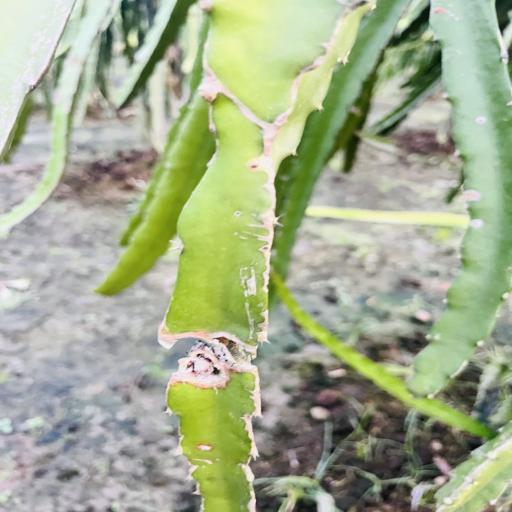stemcanker: (222, 204, 254, 241), (467, 110, 496, 131), (463, 213, 486, 234), (208, 451, 233, 466), (246, 160, 265, 174)
